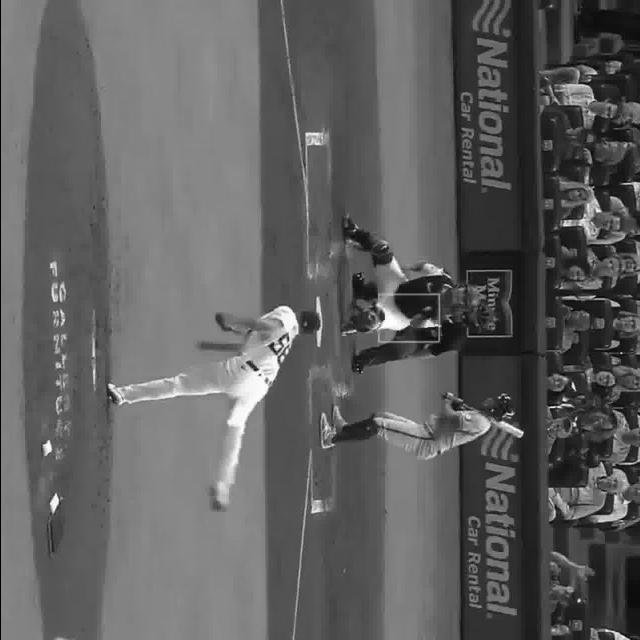base: (314, 298, 326, 346)
baseball_glove: (431, 289, 449, 327), (214, 314, 236, 330)
bat: (442, 391, 525, 443)
shoe: (318, 413, 334, 449), (104, 379, 124, 405), (338, 215, 356, 241), (331, 404, 346, 432), (342, 320, 356, 338)
